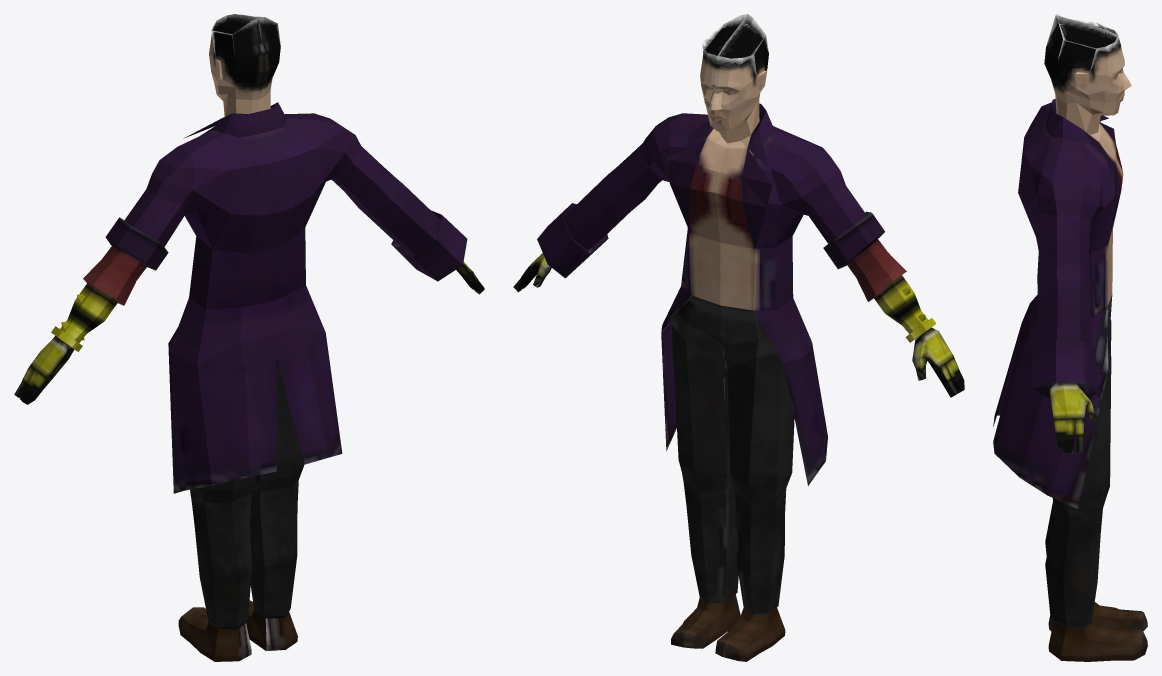
Rendered from default_avatar.dae.
3 views of the same model, side by side, from view 1: azimuth 30°, elevation 25°; view 2: azimuth 150°, elevation 25°; view 3: azimuth 270°, elevation 25° (orthographic). The views are drawn at different scales.
Visible parts, largest first — view 1: Plane; view 2: Plane; view 3: Plane.
Part boxes in pixels (x1=…): Plane: x1=14, y1=14, x2=484, y2=661; Plane: x1=513, y1=14, x2=964, y2=661; Plane: x1=993, y1=14, x2=1147, y2=661.
Bounding box in the file's own units: 2.22 × 2.92 × 0.6542.
Materials: 1 (1 with a texture image).
